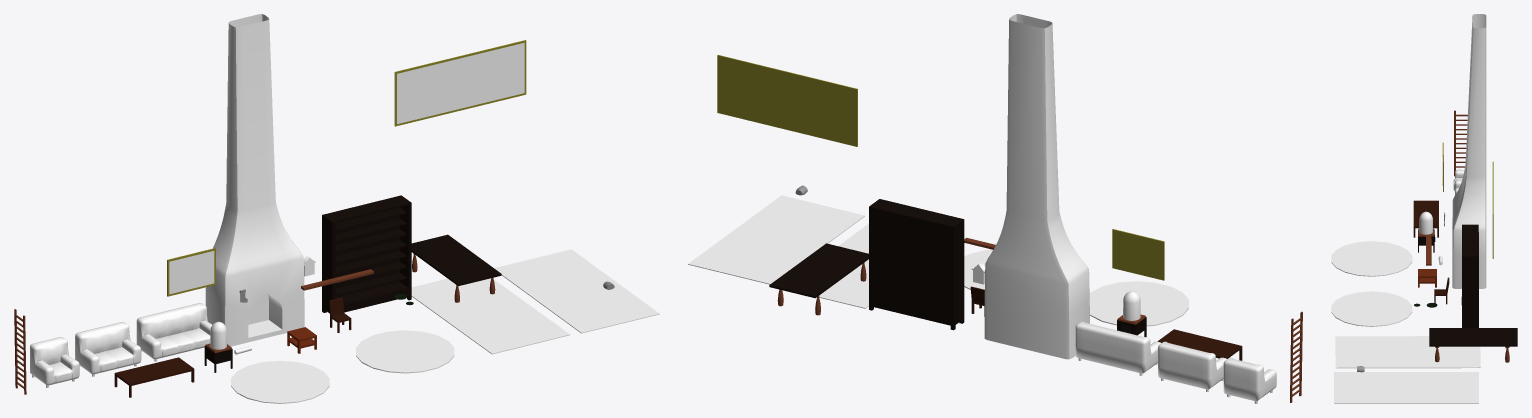
Rendered from largetable.FBX.
3 renders of one model, left to right at view 1: azimuth 30°, elevation 25°; view 2: azimuth 150°, elevation 25°; view 3: azimuth 270°, elevation 25°, orthographic. The views are drawn at different scales.
Visible parts, largest first — view 1: Object001, Bookcase, Object006, squairrug2_naighty_1, squairrug_naught_1, Rug, Rug2, Sofa, Table, Loveseat, Chair, painting1_nice_2 (+2 smaller); view 2: Object001, Bookcase, Object006, squairrug2_naighty_1, Table, Rug2, Sofa, Loveseat, painting1_nice_2, Chair, squairrug_naught_1, widetable_nice_02 (+2 smaller); view 3: Object001, squairrug2_naighty_1, squairrug_naught_1, Rug, Rug2, Table, Bookcase, widetable_nice_02, ladder_naughty_2, smalltable_good_1, bustglass_naughty_02, busttable_nice_1 (+2 smaller).
Boxes of the visible parts, left/top/right/bottom form: Object001: left=205, top=14, right=304, bottom=346; Bookcase: left=322, top=195, right=411, bottom=313; Object006: left=394, top=40, right=526, bottom=126; squairrug2_naighty_1: left=494, top=249, right=659, bottom=333; squairrug_naught_1: left=411, top=278, right=570, bottom=354; Rug: left=356, top=330, right=454, bottom=373; Rug2: left=231, top=360, right=329, bottom=403; Sofa: left=136, top=303, right=212, bottom=361; Table: left=411, top=234, right=501, bottom=302; Loveseat: left=75, top=322, right=141, bottom=376; Chair: left=30, top=337, right=79, bottom=387; painting1_nice_2: left=167, top=248, right=215, bottom=296; Object001: left=984, top=14, right=1089, bottom=359; Bookcase: left=869, top=199, right=964, bottom=330; Object006: left=717, top=55, right=857, bottom=146; squairrug2_naighty_1: left=688, top=195, right=864, bottom=284; Table: left=769, top=243, right=868, bottom=315; Rug2: left=1089, top=281, right=1188, bottom=326; Sofa: left=1075, top=321, right=1161, bottom=375; Loveseat: left=1158, top=341, right=1226, bottom=391; painting1_nice_2: left=1112, top=229, right=1164, bottom=280; Chair: left=1223, top=357, right=1276, bottom=403; squairrug_naught_1: left=819, top=223, right=868, bottom=308; widetable_nice_02: left=1157, top=329, right=1242, bottom=360; Object001: left=1452, top=14, right=1486, bottom=288; squairrug2_naighty_1: left=1334, top=372, right=1478, bottom=403; squairrug_naught_1: left=1335, top=336, right=1480, bottom=368; Rug: left=1331, top=291, right=1412, bottom=326; Rug2: left=1331, top=241, right=1412, bottom=276; Table: left=1429, top=328, right=1517, bottom=362; Bookcase: left=1461, top=224, right=1478, bottom=327; widetable_nice_02: left=1413, top=200, right=1438, bottom=237; ladder_naughty_2: left=1454, top=110, right=1467, bottom=176; smalltable_good_1: left=1418, top=269, right=1436, bottom=287; bustglass_naughty_02: left=1419, top=211, right=1432, bottom=234; busttable_nice_1: left=1418, top=228, right=1435, bottom=252.
Bounding box in the file's own units: 969 × 338 × 509.
